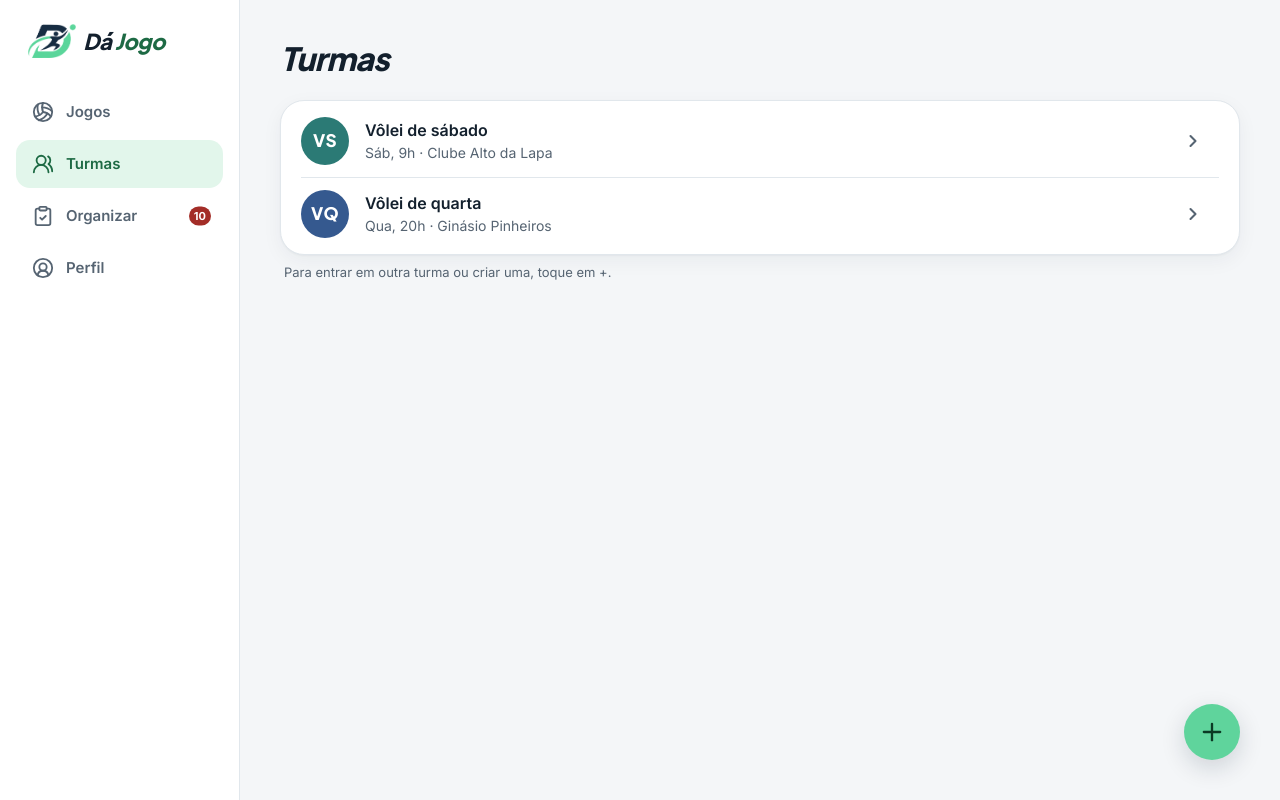
Scenario: 3.6 Turmas › lista as turmas e o + abre Entrar com convite e Criar turma
Expected: the link "VS Vôlei de sábado Sáb, 9h · Clube Alto da Lapa" is shown, [301,105,1219,177]
Click the button named "Entrar com convite ou criar turma": [1212, 732] box [1184,704,1240,760]
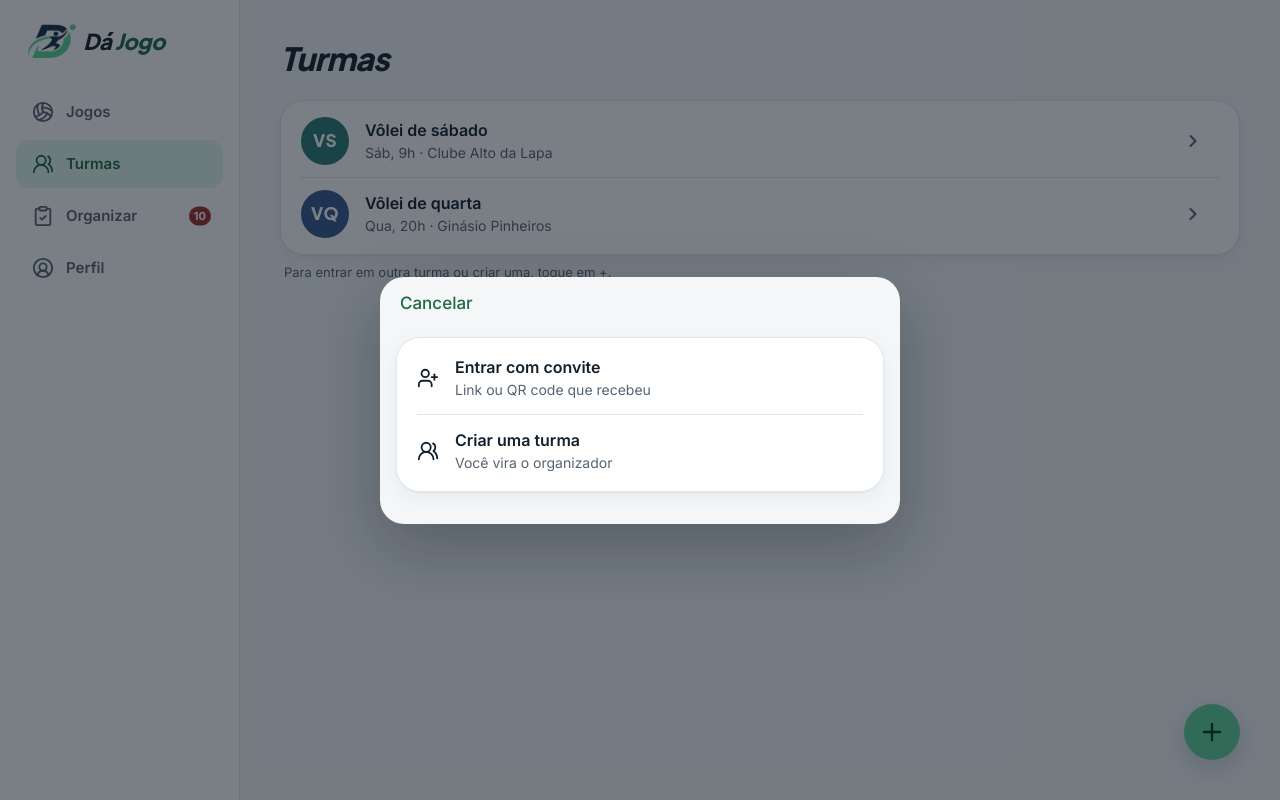
Expected: the button "Entrar com convite Link ou QR code que recebeu" is shown, [417,342,863,414]
Expected: the button "Criar uma turma Você vira o organizador" is shown, [417,414,863,486]
